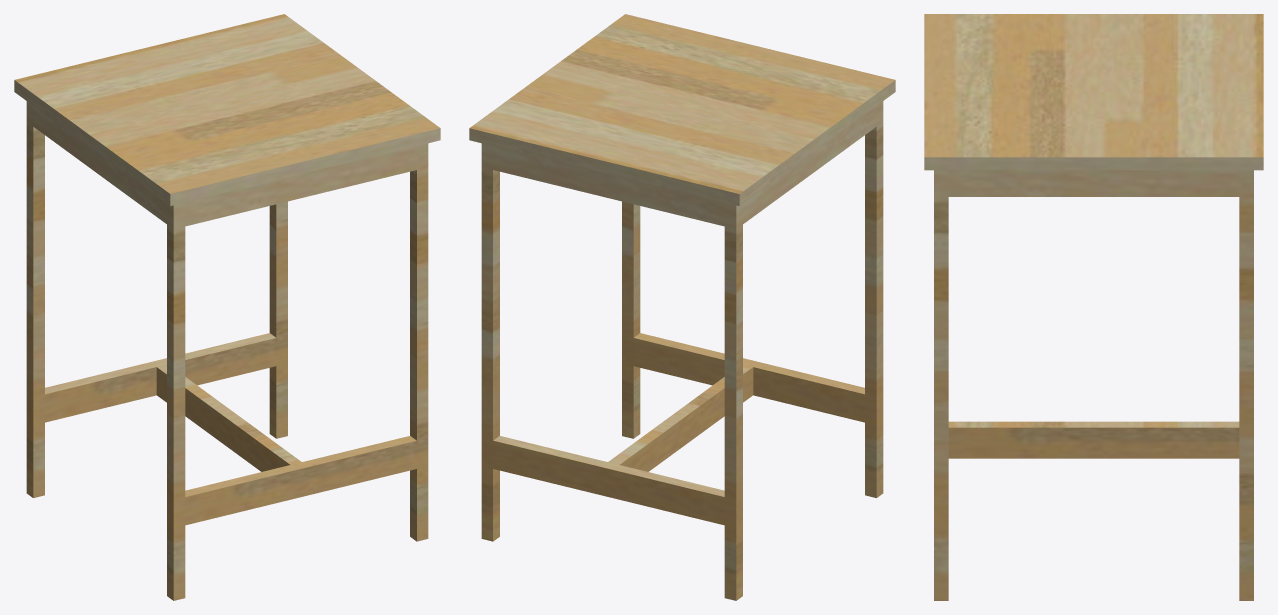
The picture shows the model from 3 angles, left to right: view 1: azimuth 30°, elevation 25°; view 2: azimuth 150°, elevation 25°; view 3: azimuth 270°, elevation 25°; orthographic projection. The views are drawn at different scales.
Parts seen in each view (by area): view 1: Mesh1 BJ_RKUDDEN_bar1 Model; view 2: Mesh1 BJ_RKUDDEN_bar1 Model; view 3: Mesh1 BJ_RKUDDEN_bar1 Model.
Boxes of the visible parts, x1,y1,x2,y2 form: Mesh1 BJ_RKUDDEN_bar1 Model: (14, 14, 440, 600); Mesh1 BJ_RKUDDEN_bar1 Model: (469, 14, 895, 600); Mesh1 BJ_RKUDDEN_bar1 Model: (924, 14, 1263, 600).
Size of the model in its own units: 70 by 102 by 70.
1 material, 1 textured.
